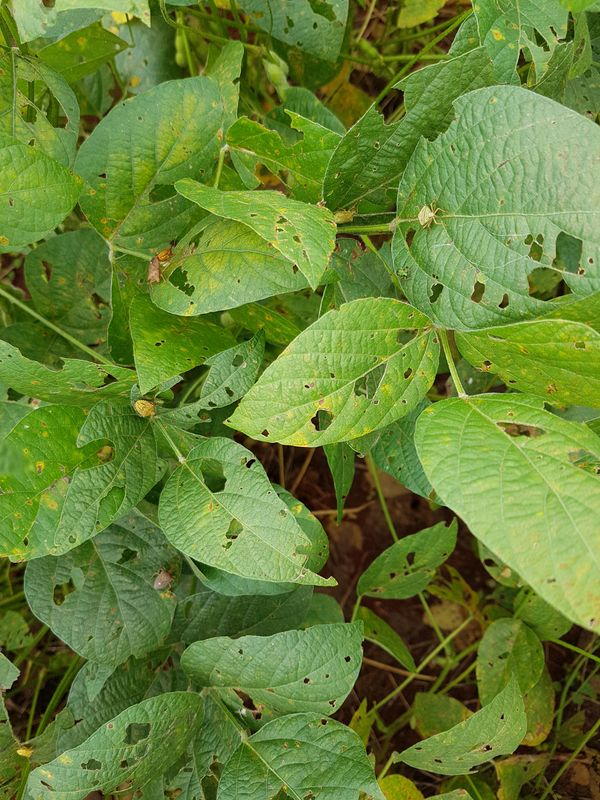Diabrotica_speciosa: (392, 265, 411, 281)
Euschistus_heros_adulto: (147, 563, 179, 597), (156, 238, 181, 262), (143, 256, 161, 287)
Euschistus_heros_ninfa: (413, 200, 446, 232), (330, 201, 360, 232), (130, 395, 159, 424)
